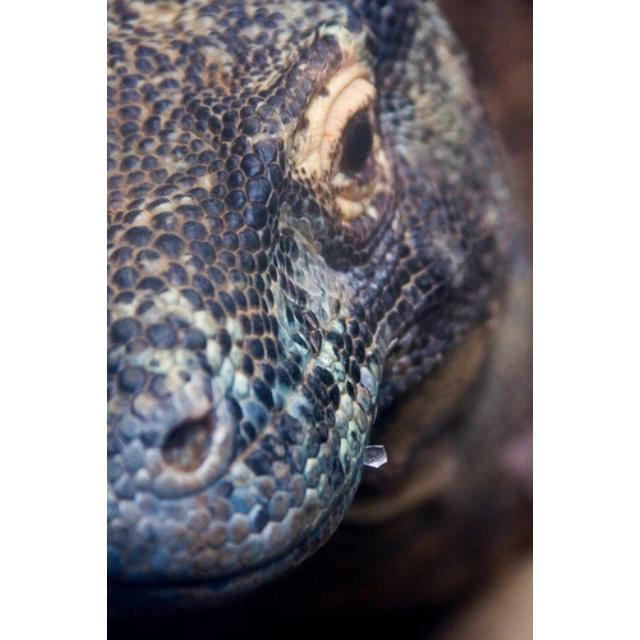KomodoDragon: (107, 1, 529, 602)
